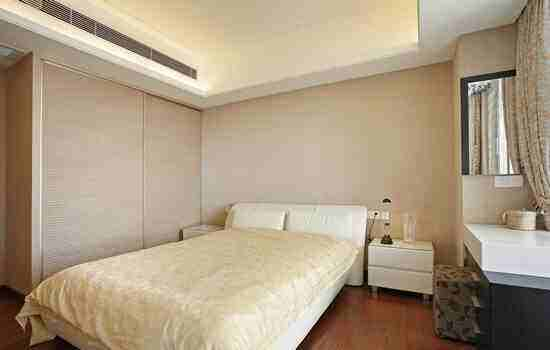床: (31, 226, 360, 346)
枕头: (226, 198, 348, 236)
